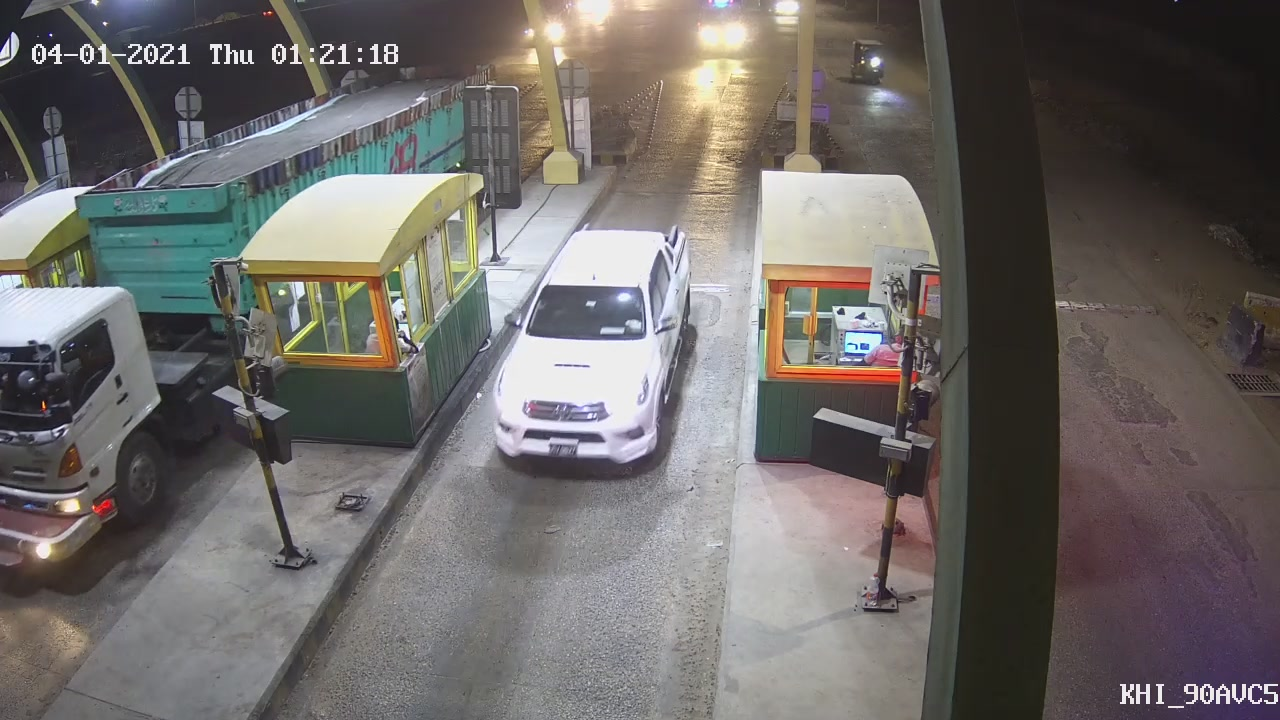F1: (485, 221, 696, 490)
